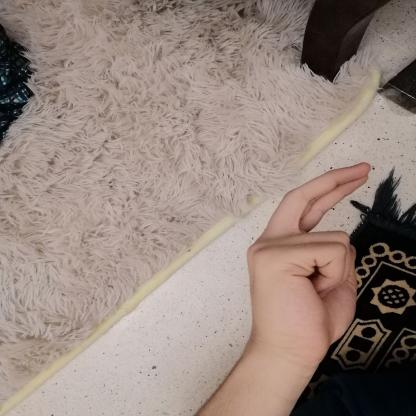ZAY: (235, 154, 384, 370)
